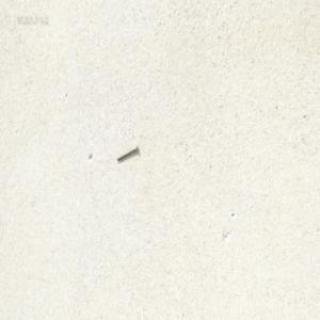Bolttrack_idkeyframe: (115, 142, 137, 160)
